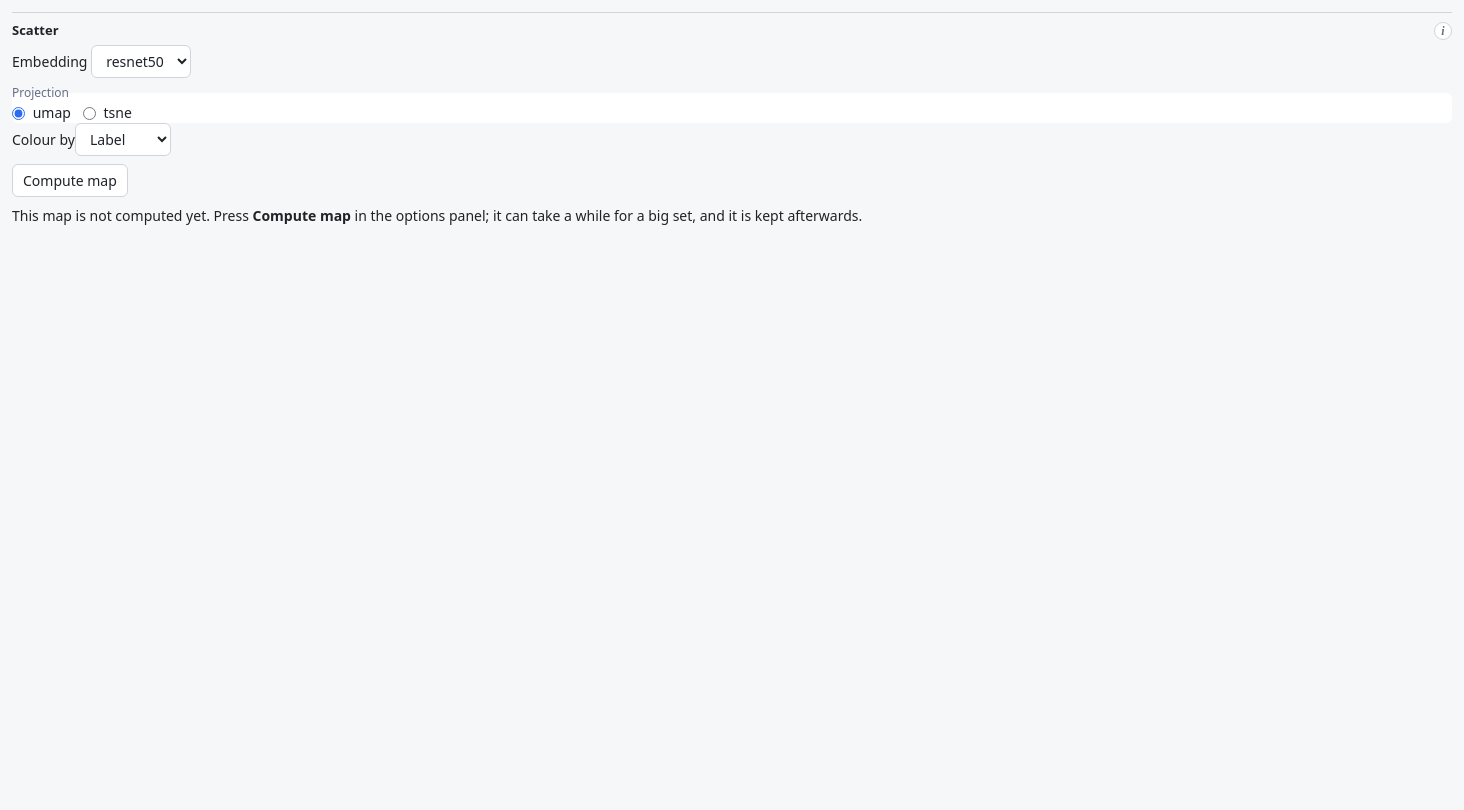
Test: a map that is not cached waits for the Compute map button
The width and height of the screenshot is (1464, 810).
Expected: the text "not computed yet" is shown, [12,206,252,224]
Step 1. Click the button "Compute map" → {"x": 70, "y": 180}, box [12,164,128,196]
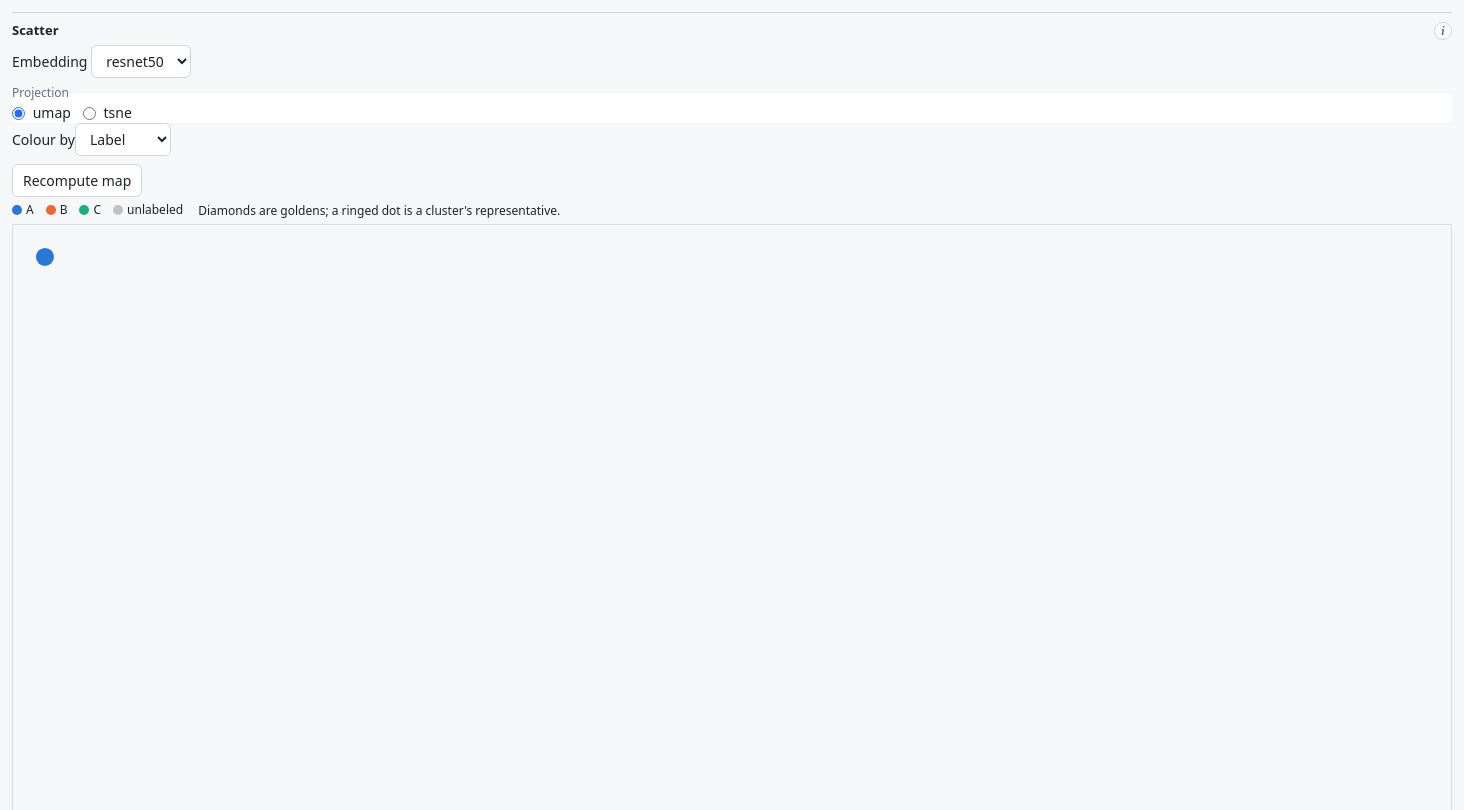
Expected: the button "Recompute map" is shown, [12,164,142,196]
